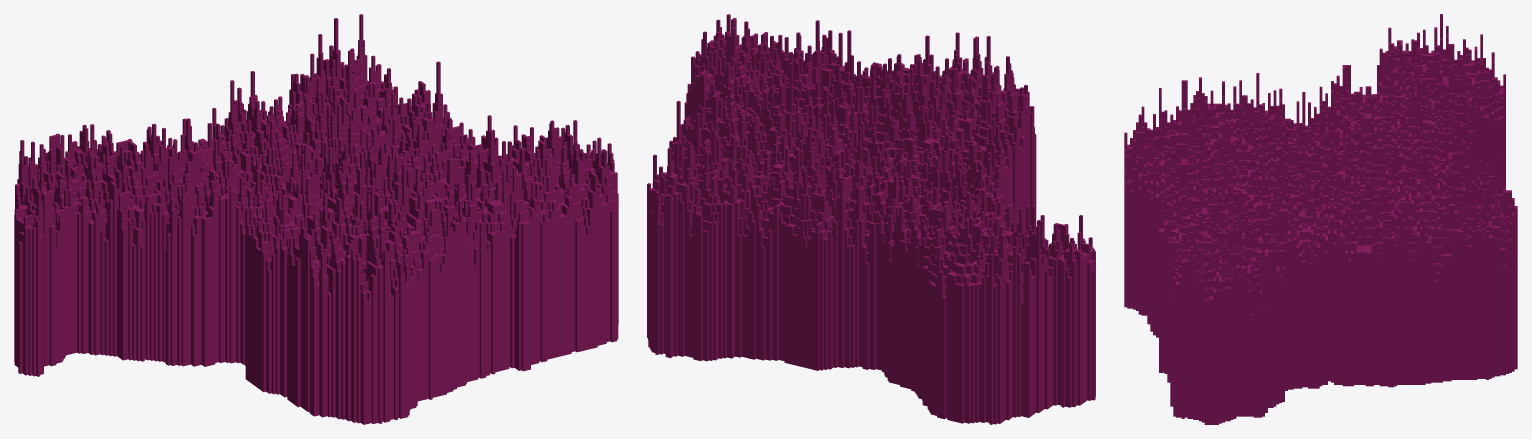
File: flight_den_56.glb
3 renders of one model, left to right at view 1: azimuth 30°, elevation 25°; view 2: azimuth 150°, elevation 25°; view 3: azimuth 270°, elevation 25°, orthographic. The views are drawn at different scales.
Parts seen in each view (by area): view 1: pyvista_mesh_save.002; view 2: pyvista_mesh_save.002; view 3: pyvista_mesh_save.002.
Part boxes in pixels (x1=…): pyvista_mesh_save.002: x1=14, y1=14, x2=618, y2=424; pyvista_mesh_save.002: x1=647, y1=14, x2=1095, y2=424; pyvista_mesh_save.002: x1=1124, y1=14, x2=1517, y2=424.
Size of the model in its own units: 3.84 by 1.86 by 2.74.
